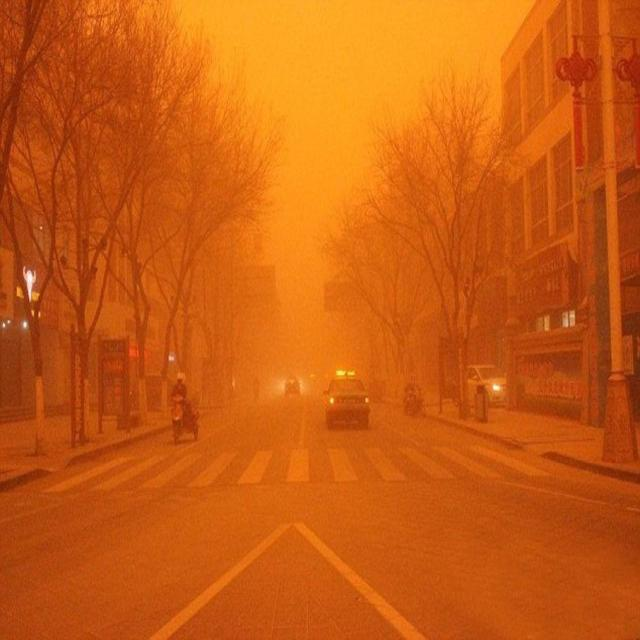Car: (323, 345, 375, 448), (460, 351, 517, 427), (283, 364, 303, 417)
Cycle: (160, 351, 196, 448)
